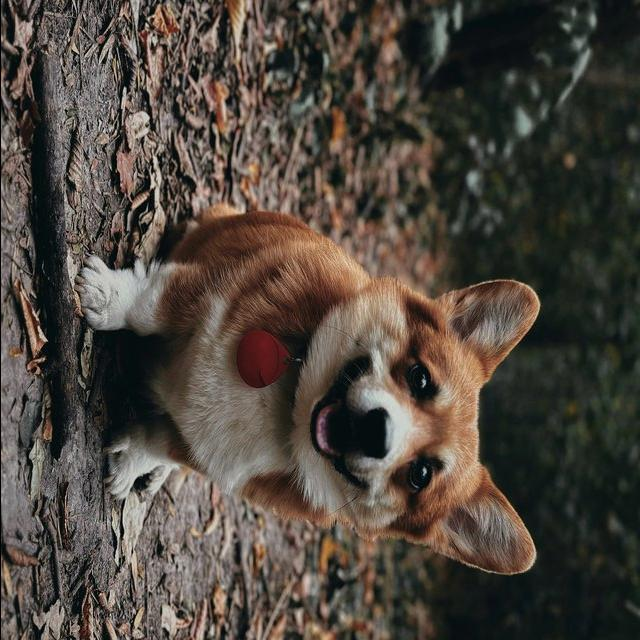corgi: (74, 203, 542, 577)
